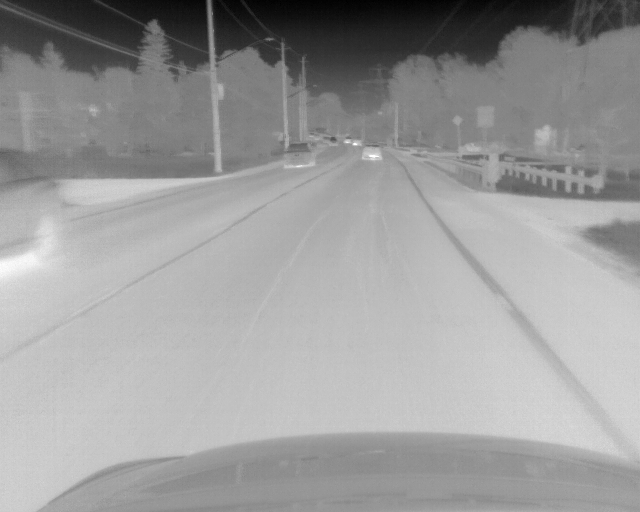car: (1, 146, 69, 265), (283, 142, 314, 169), (360, 144, 383, 161), (328, 136, 337, 146), (342, 136, 350, 144), (351, 139, 360, 146), (321, 136, 328, 144)
